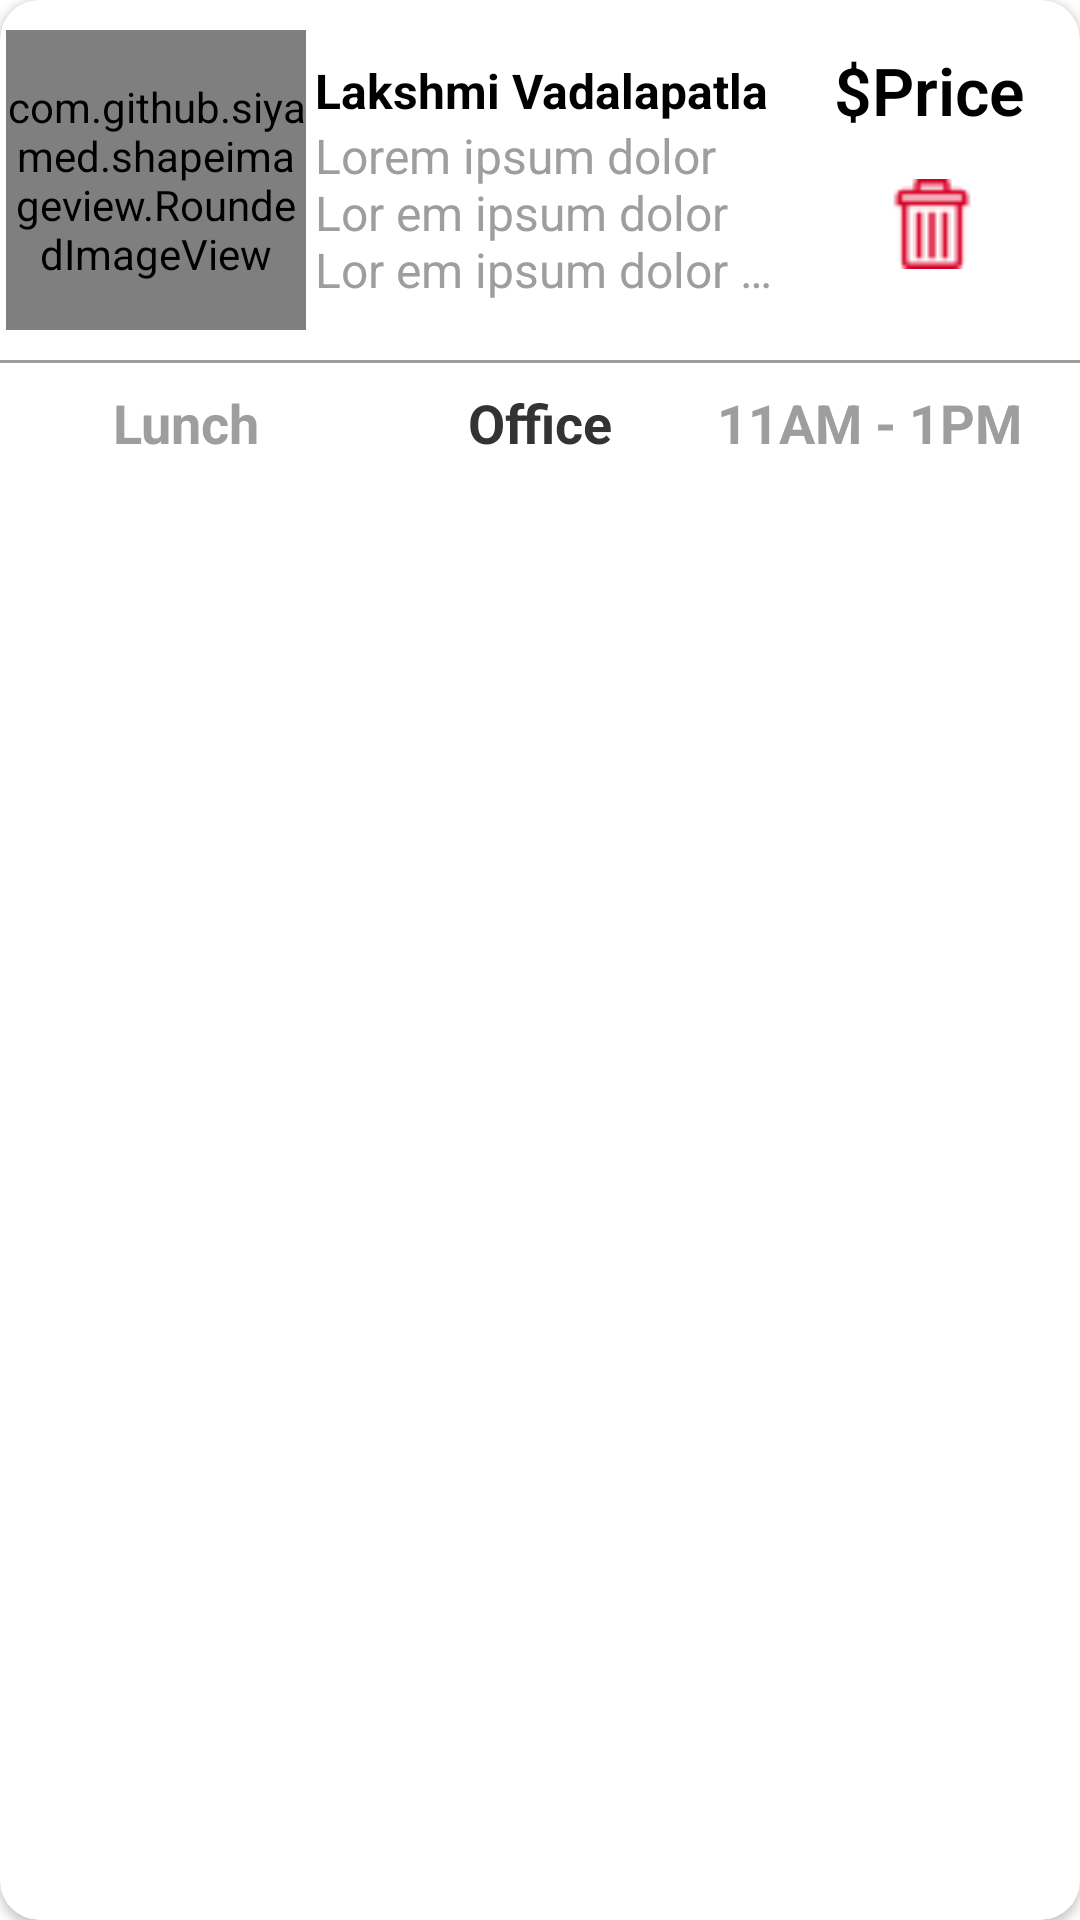

Where icons sit on this 1080×1920 app screen, as (x1, y1, x2, y2):
delete bin: (893, 179, 971, 269)
